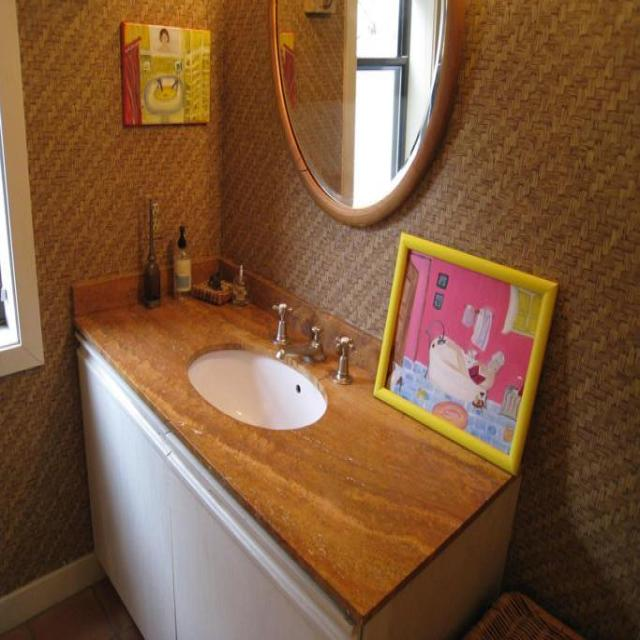faucet: (275, 323, 326, 362)
window: (268, 0, 465, 226)
